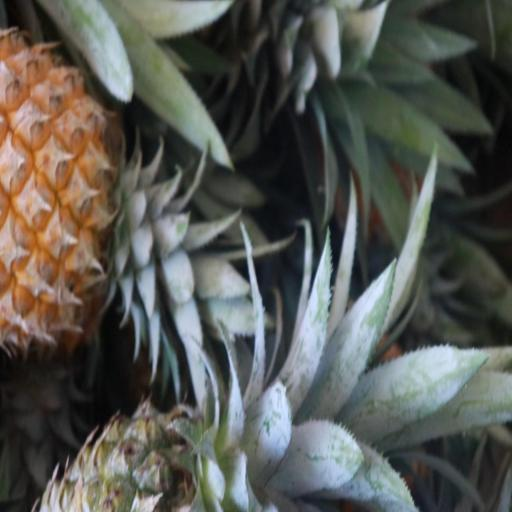Pineapple - v8 v1: (0, 32, 154, 344)
